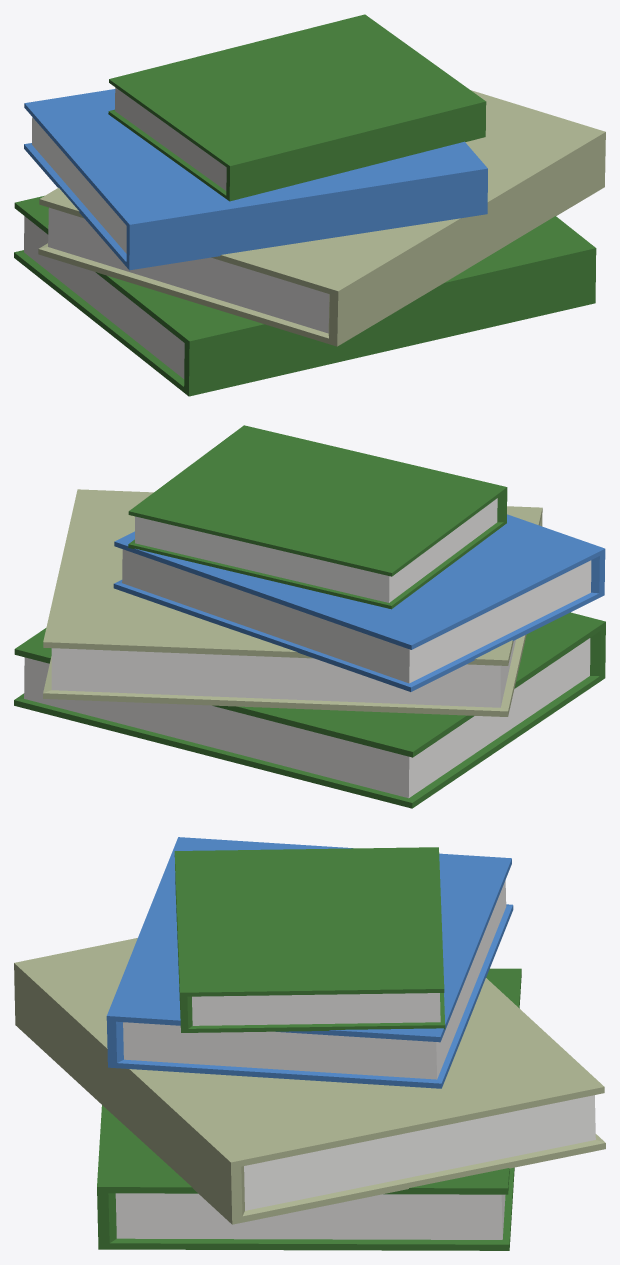
File: Books_13.fbx
3 renders of one model, top to bottom at view 1: azimuth 30°, elevation 25°; view 2: azimuth 150°, elevation 25°; view 3: azimuth 270°, elevation 25°, orthographic. The views are drawn at different scales.
Parts seen in each view (by area): view 1: Books_13; view 2: Books_13; view 3: Books_13.
Boxes of the visible parts, x1=… form: Books_13: x1=14, y1=14, x2=605, y2=396; Books_13: x1=14, y1=425, x2=605, y2=808; Books_13: x1=14, y1=837, x2=605, y2=1250.
Bounding box in the file's own units: 50.22 × 45.9 × 18.72.
